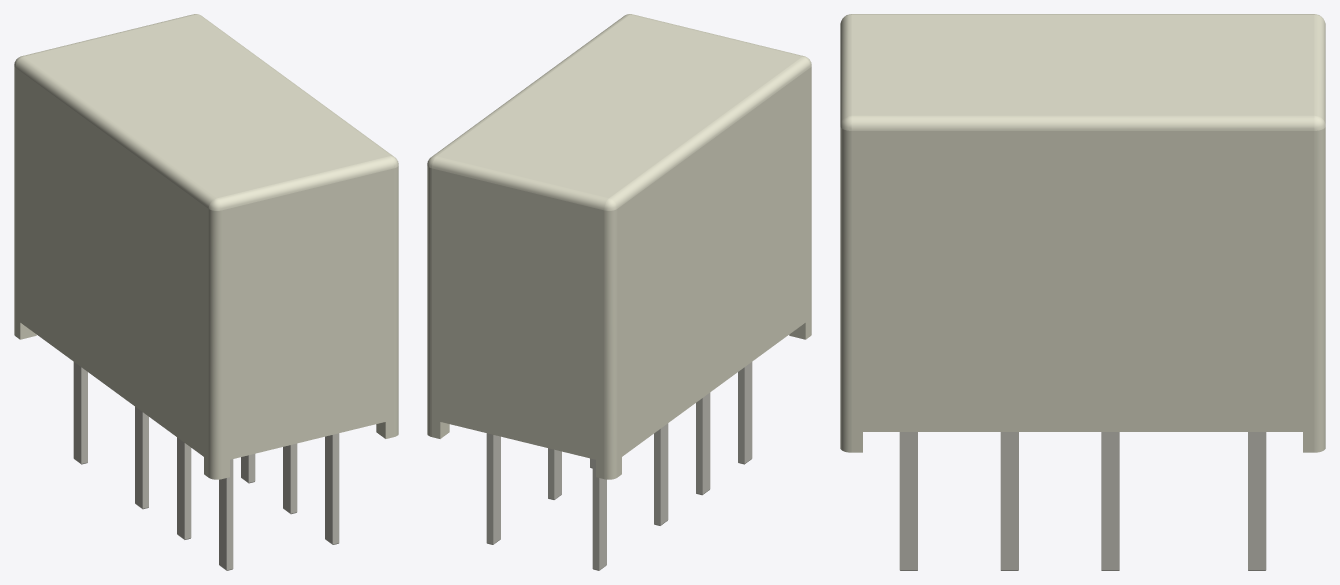
File: kc-relay_dpdt_kemet_ua2-ne_nu_nj.glb
3 renders of one model, left to right at view 1: azimuth 30°, elevation 25°; view 2: azimuth 150°, elevation 25°; view 3: azimuth 270°, elevation 25°, orthographic. The views are drawn at different scales.
Parts seen in each view (by area): view 1: 0.75_0.75_0.6666666666666666_0, 0.6666666666666666_0.6666666666666666_0.5833333333333334_0.8; view 2: 0.75_0.75_0.6666666666666666_0, 0.6666666666666666_0.6666666666666666_0.5833333333333334_0.8; view 3: 0.75_0.75_0.6666666666666666_0, 0.6666666666666666_0.6666666666666666_0.5833333333333334_0.8.
Boxes of the visible parts, x1,y1,x2,y2 form: 0.75_0.75_0.6666666666666666_0: [14, 14, 398, 479]; 0.6666666666666666_0.6666666666666666_0.5833333333333334_0.8: [73, 362, 339, 570]; 0.75_0.75_0.6666666666666666_0: [427, 14, 811, 479]; 0.6666666666666666_0.6666666666666666_0.5833333333333334_0.8: [486, 362, 752, 570]; 0.75_0.75_0.6666666666666666_0: [840, 14, 1325, 452]; 0.6666666666666666_0.6666666666666666_0.5833333333333334_0.8: [899, 432, 1266, 570].
Bounding box in the file's own units: 0.5701 × 1.14 × 1.06.
